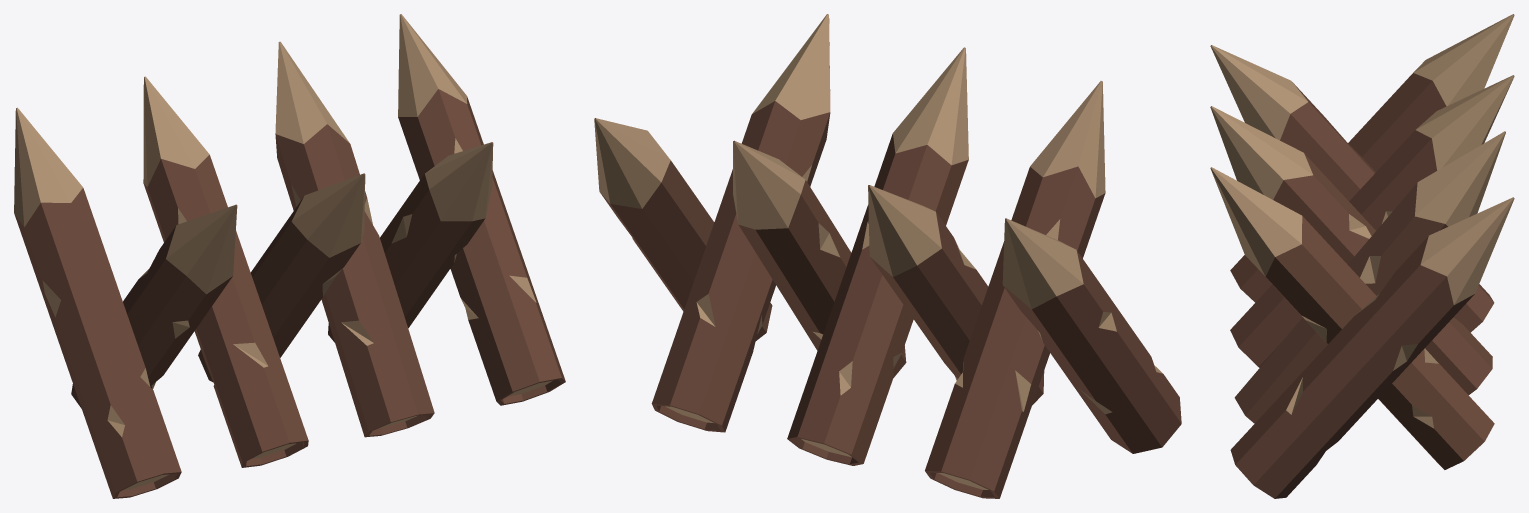
The model's file is Wood Barricade.fbx.
3 renders of one model, left to right at view 1: azimuth 30°, elevation 25°; view 2: azimuth 150°, elevation 25°; view 3: azimuth 270°, elevation 25°, orthographic. The views are drawn at different scales.
Visible parts, largest first — view 1: Log Barricade Part 01, Log Barricade Part 05, Log Barricade Part 07, Log Barricade Part 03, Log Barricade Part 02, Log Barricade Part 06, Log Barricade Part 04; view 2: Log Barricade Part 04, Log Barricade Part 02, Log Barricade Part 06, Log Barricade Part 01, Log Barricade Part 05, Log Barricade Part 03, Log Barricade Part 07; view 3: Log Barricade Part 07, Log Barricade Part 06, Log Barricade Part 05, Log Barricade Part 04, Log Barricade Part 03, Log Barricade Part 02, Log Barricade Part 01.
Boxes of the visible parts, x1,y1,x2,y2 form: Log Barricade Part 01: (14,107,181,498); Log Barricade Part 05: (275,41,434,437); Log Barricade Part 07: (398,14,565,405); Log Barricade Part 03: (143,76,308,467); Log Barricade Part 02: (71,204,237,408); Log Barricade Part 06: (328,142,493,342); Log Barricade Part 04: (198,173,365,382); Log Barricade Part 04: (787,47,968,465); Log Barricade Part 02: (925,81,1105,498); Log Barricade Part 06: (651,14,830,432); Log Barricade Part 01: (1002,218,1181,453); Log Barricade Part 05: (733,140,906,377); Log Barricade Part 03: (868,185,1044,405); Log Barricade Part 07: (594,118,772,340); Log Barricade Part 07: (1230,197,1514,498); Log Barricade Part 06: (1210,167,1494,469); Log Barricade Part 05: (1234,131,1505,423); Log Barricade Part 04: (1210,106,1492,395); Log Barricade Part 03: (1230,75,1514,367); Log Barricade Part 02: (1210,45,1494,332); Log Barricade Part 01: (1230,14,1514,302).
Bounding box in the file's own units: 1.75 × 1.17 × 1.05.
